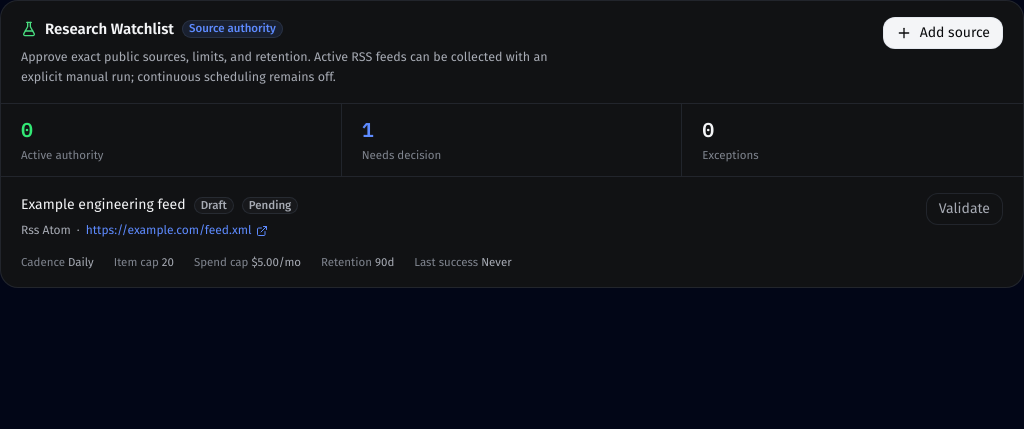
Test: ResearchWatchlistPanel › shows immutable decision history for the selected source
The image size is (1024, 429).
Click the button "Example engineering feed" at (103, 205), box [21, 193, 186, 217]
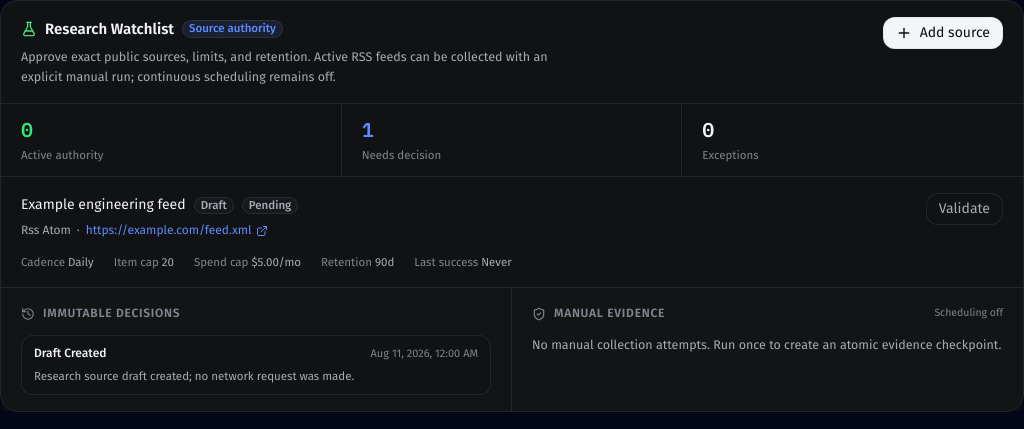
Check: the heading "Immutable decisions" is shown, box [43, 304, 180, 323]
Check: the text "Draft Created" is shown, box [34, 344, 106, 363]
Check: the text "Research source draft created; no network request was made." is shown, box [34, 369, 354, 383]
